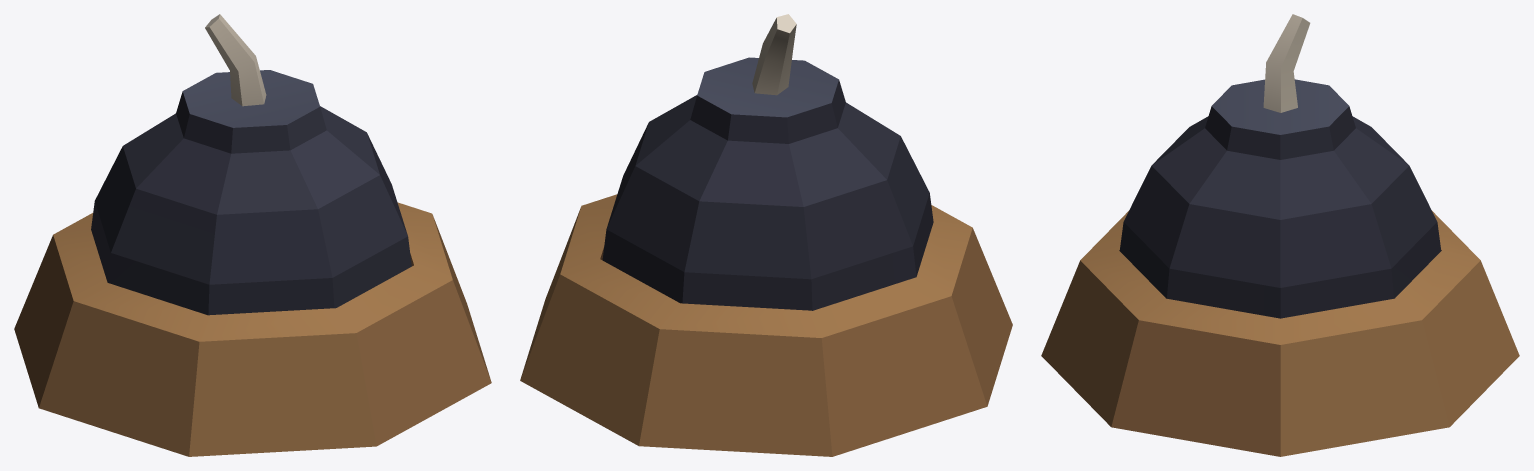
Rendered from MinesLv1.fbx.
3 renders of one model, left to right at view 1: azimuth 30°, elevation 25°; view 2: azimuth 150°, elevation 25°; view 3: azimuth 270°, elevation 25°, orthographic. The views are drawn at different scales.
Visible parts, largest first — view 1: MinesLv1; view 2: MinesLv1; view 3: MinesLv1.
Part boxes in pixels (x1=…): MinesLv1: x1=14, y1=14, x2=491, y2=456; MinesLv1: x1=520, y1=14, x2=1012, y2=456; MinesLv1: x1=1041, y1=14, x2=1519, y2=456.
Bounding box in the file's own units: 37.06 × 31.45 × 37.06.
